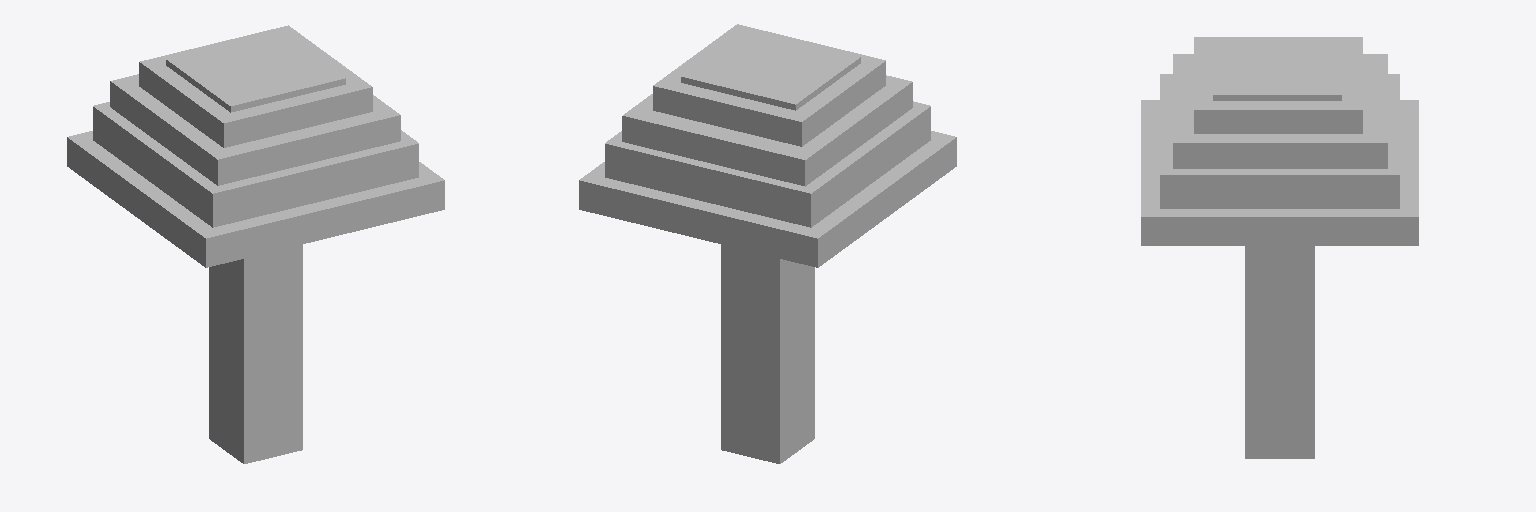
Rendered from Tree.obj.
The picture shows the model from 3 angles: view 1: azimuth 30°, elevation 25°; view 2: azimuth 150°, elevation 25°; view 3: azimuth 270°, elevation 25°; orthographic projection.
Visible parts, largest first — view 1: object 1; view 2: object 1; view 3: object 1.
Boxes of the visible parts, x1=… form: object 1: x1=67, y1=25, x2=444, y2=463; object 1: x1=579, y1=24, x2=956, y2=463; object 1: x1=1141, y1=37, x2=1418, y2=458.
Size of the model in its own units: 16.2 by 24.4 by 16.3.